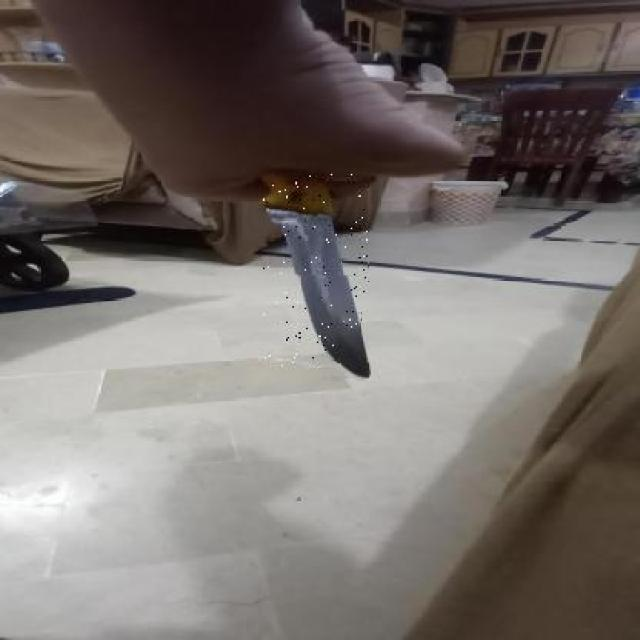knife: (263, 170, 369, 378)
